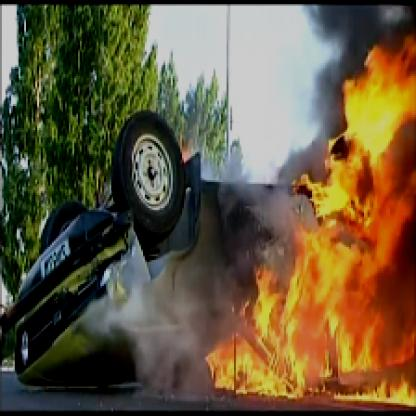Fire: (206, 7, 414, 408)
